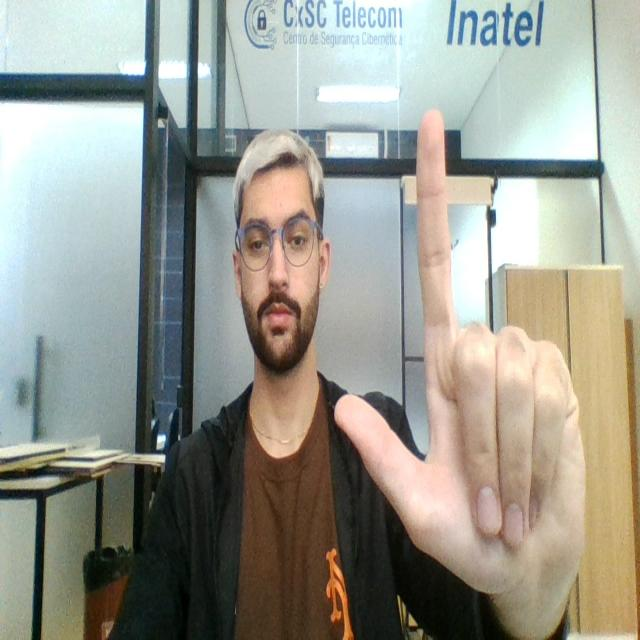L: (330, 105, 593, 617)
